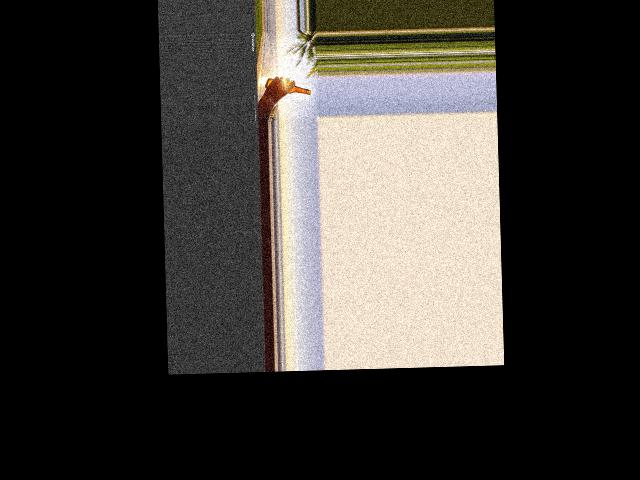beer: (264, 77, 310, 96)
